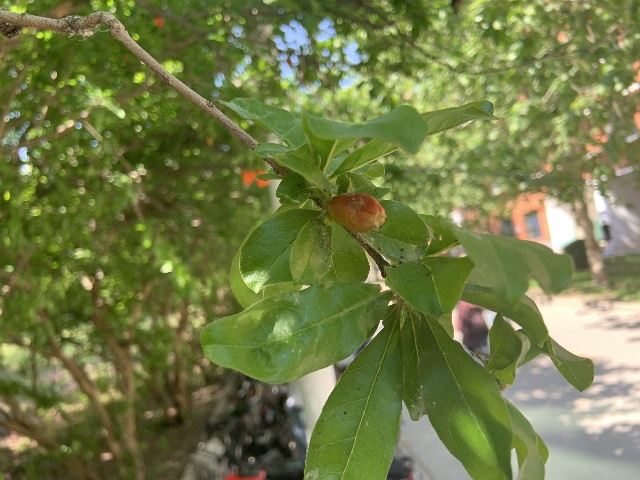bud: (327, 192, 386, 232)
